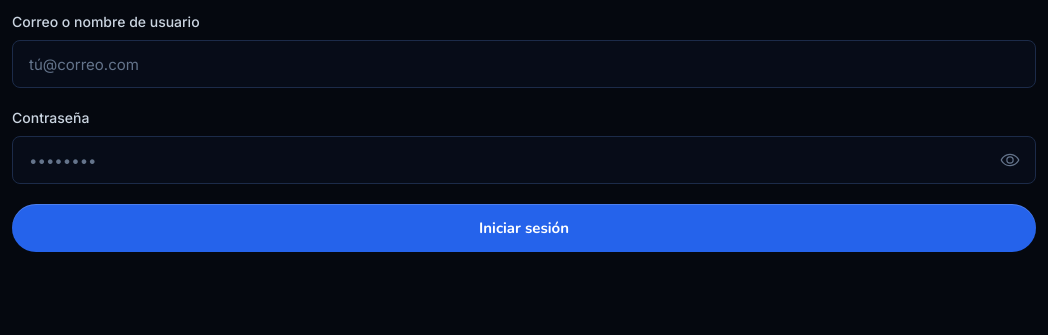
Scenario: LoginForm › avisa si no se pudo conectar con el servidor
The image size is (1048, 335).
Type "ana@example.com" into the field labelled "Correo o nombre de usuario".
click(524, 64); type("ana@example.com")  # box [12,40,1036,88]
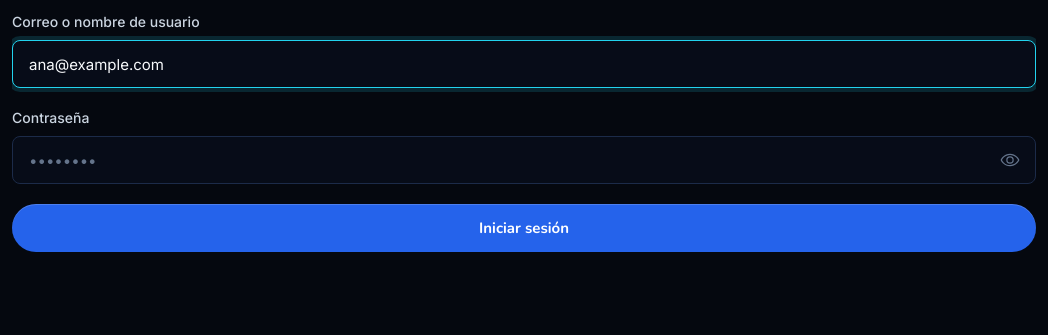
Type "ClaveSegura123" into the password field labelled "Contraseña".
click(524, 160); type("ClaveSegura123")  # box [12,136,1036,184]
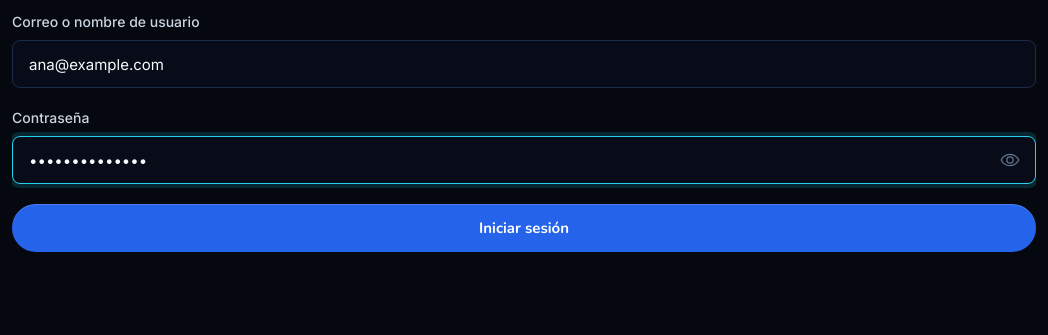
Click the button "Iniciar sesión".
click(524, 228)  # box [12,204,1036,252]
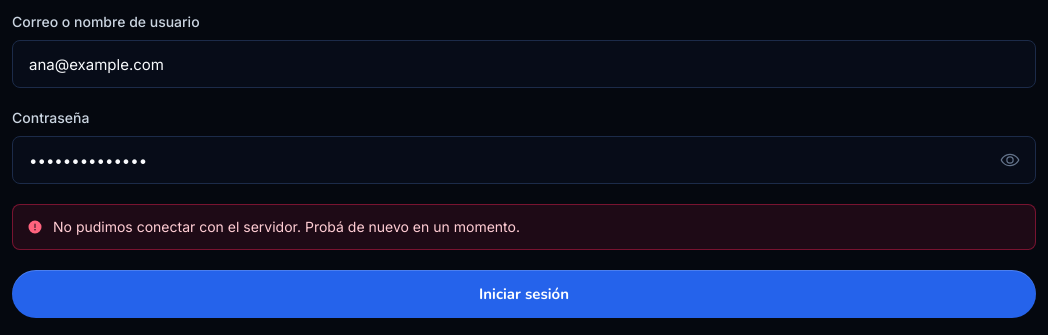
Expected: the message shows "No pudimos conectar con el servidor", [53,218,520,235]
